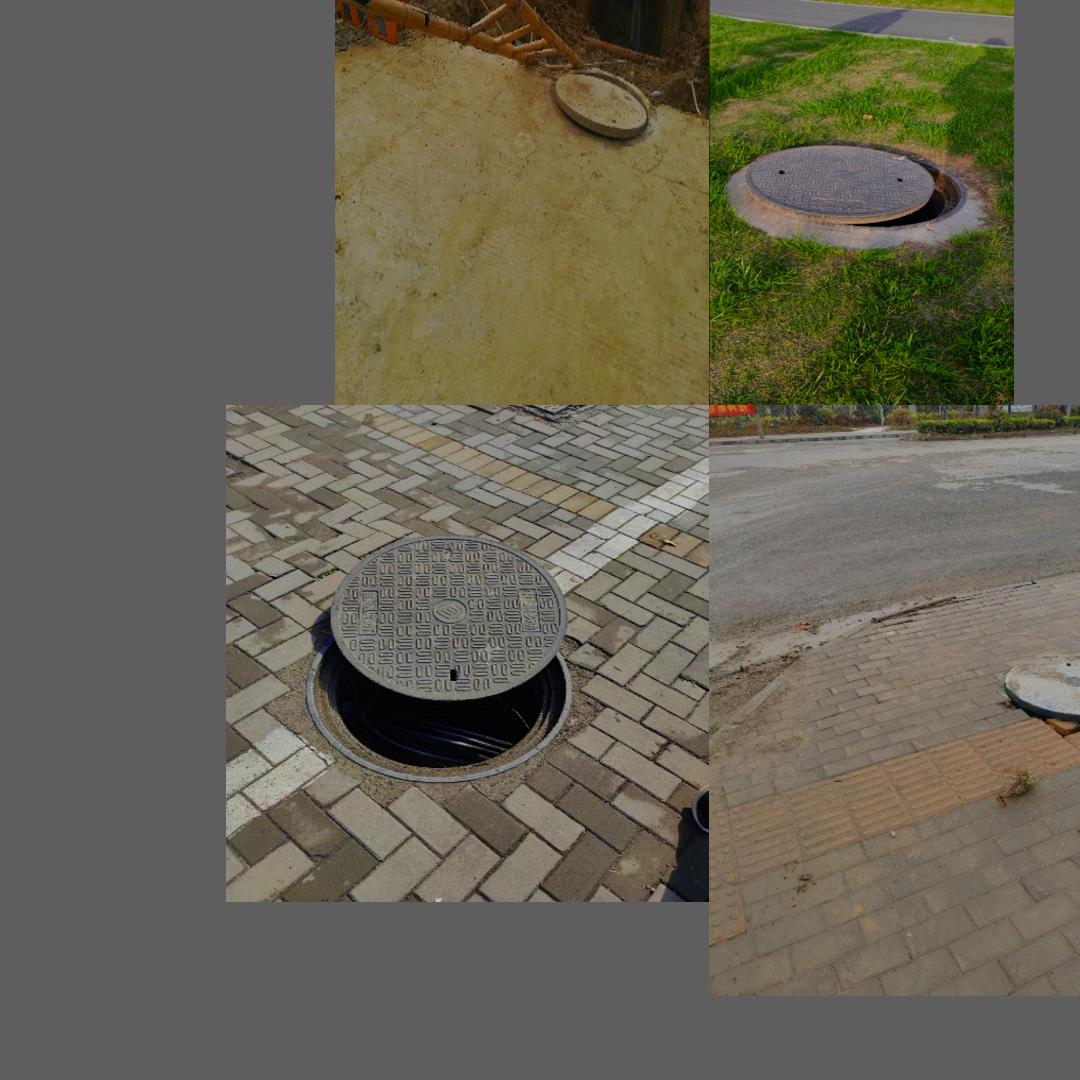uncovered: (305, 541, 600, 780), (741, 142, 969, 231), (553, 65, 659, 141), (1006, 656, 1080, 719)
